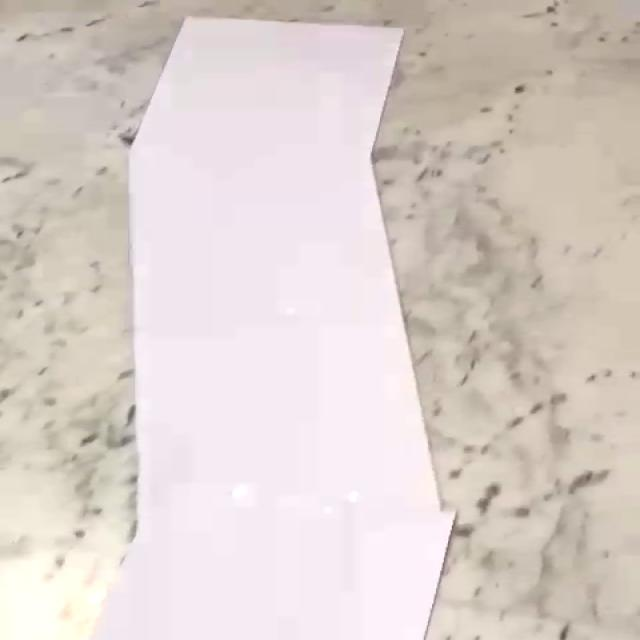road: (92, 17, 453, 640)
